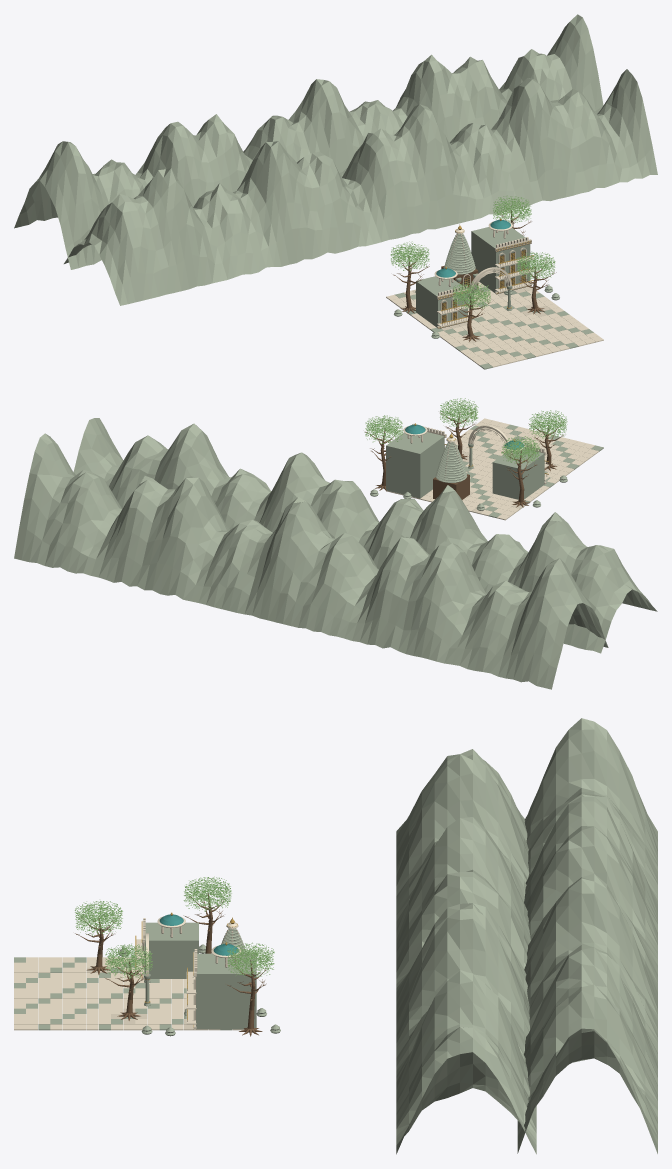
Rendered from shambhala.glb.
3 views of the same model, one above another, from view 1: azimuth 30°, elevation 25°; view 2: azimuth 150°, elevation 25°; view 3: azimuth 270°, elevation 25° (orthographic). The views are drawn at different scales.
Parts seen in each view (by area): view 1: Preview_shambhala; view 2: Preview_shambhala; view 3: Preview_shambhala.
Part boxes in pixels (x1,y1,x2,y2): Preview_shambhala: (14,14,657,369); Preview_shambhala: (14,398,657,689); Preview_shambhala: (14,718,657,1154).
Size of the model in its own units: 126 by 23.37 by 106.
